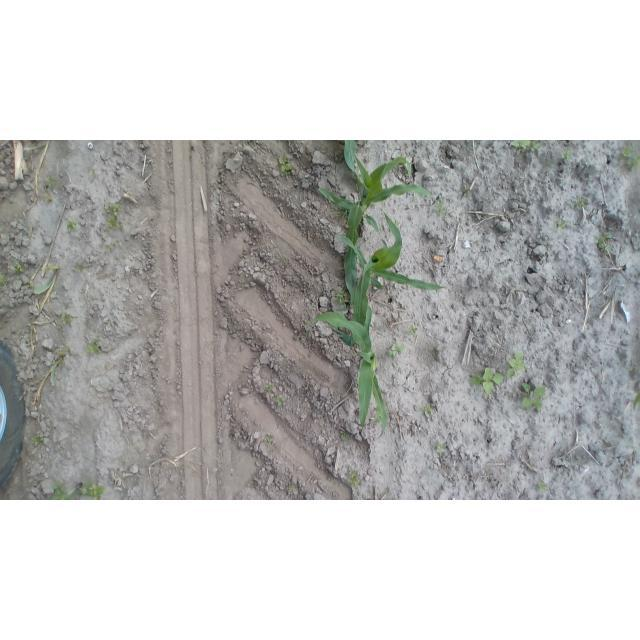Maize: (330, 208, 446, 352), (319, 141, 442, 234), (312, 304, 389, 438), (34, 266, 59, 295), (50, 350, 67, 386), (50, 482, 82, 500), (23, 141, 50, 154), (633, 392, 640, 411)
Weeds: (468, 367, 502, 395), (522, 382, 546, 409), (507, 348, 527, 377), (78, 482, 104, 498), (510, 141, 540, 152), (88, 338, 103, 354), (278, 156, 292, 172), (104, 202, 121, 215), (598, 231, 610, 249), (388, 344, 405, 355), (62, 313, 75, 327), (348, 470, 358, 487), (335, 290, 348, 303), (106, 215, 118, 229), (437, 201, 448, 216), (622, 145, 635, 157), (627, 154, 640, 165), (53, 483, 66, 494), (538, 480, 549, 491), (409, 324, 418, 336), (339, 431, 350, 440), (12, 263, 23, 272), (46, 176, 55, 187), (561, 151, 571, 160), (276, 395, 285, 405), (574, 198, 585, 206), (68, 219, 75, 231), (266, 382, 274, 392), (264, 435, 273, 443), (287, 481, 294, 491), (34, 435, 42, 443), (1, 275, 8, 284), (43, 195, 53, 201), (560, 220, 567, 228), (76, 263, 83, 271), (426, 404, 431, 414), (437, 442, 443, 450), (104, 243, 112, 249), (462, 187, 469, 193), (394, 220, 401, 224), (91, 172, 96, 177), (279, 256, 284, 261), (28, 285, 33, 288)
